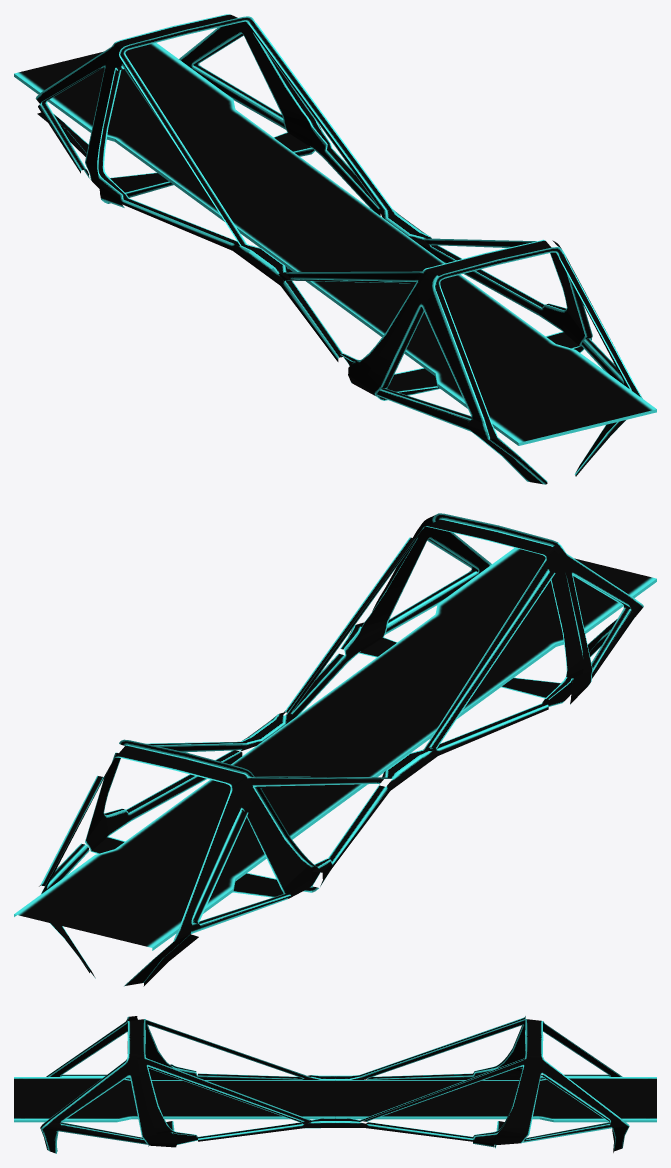
File: pont_optimized.gltf
3 renders of one model, top to bottom at view 1: azimuth 30°, elevation 25°; view 2: azimuth 150°, elevation 25°; view 3: azimuth 270°, elevation 25°, orthographic. The views are drawn at different scales.
Parts seen in each view (by area): view 1: Cube; view 2: Cube; view 3: Cube.
Boxes of the visible parts, bbox=[...] form: Cube: bbox=[14, 14, 656, 484]; Cube: bbox=[14, 513, 656, 986]; Cube: bbox=[14, 1016, 656, 1153].
Size of the model in its own units: 22.59 by 17.24 by 88.56.
Materials: 1 (1 with a texture image).
